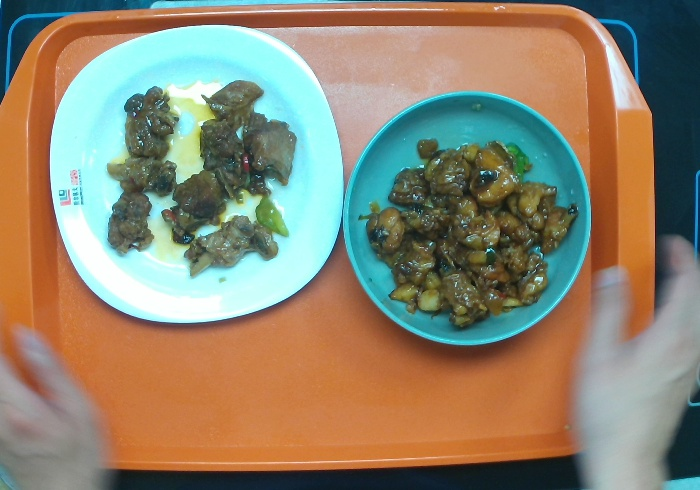ZNLD-Qing_Hua_Yuan_Wan: (339, 89, 593, 354)
ZNLD-Yuan_Jiao_Pan: (44, 24, 342, 328)
